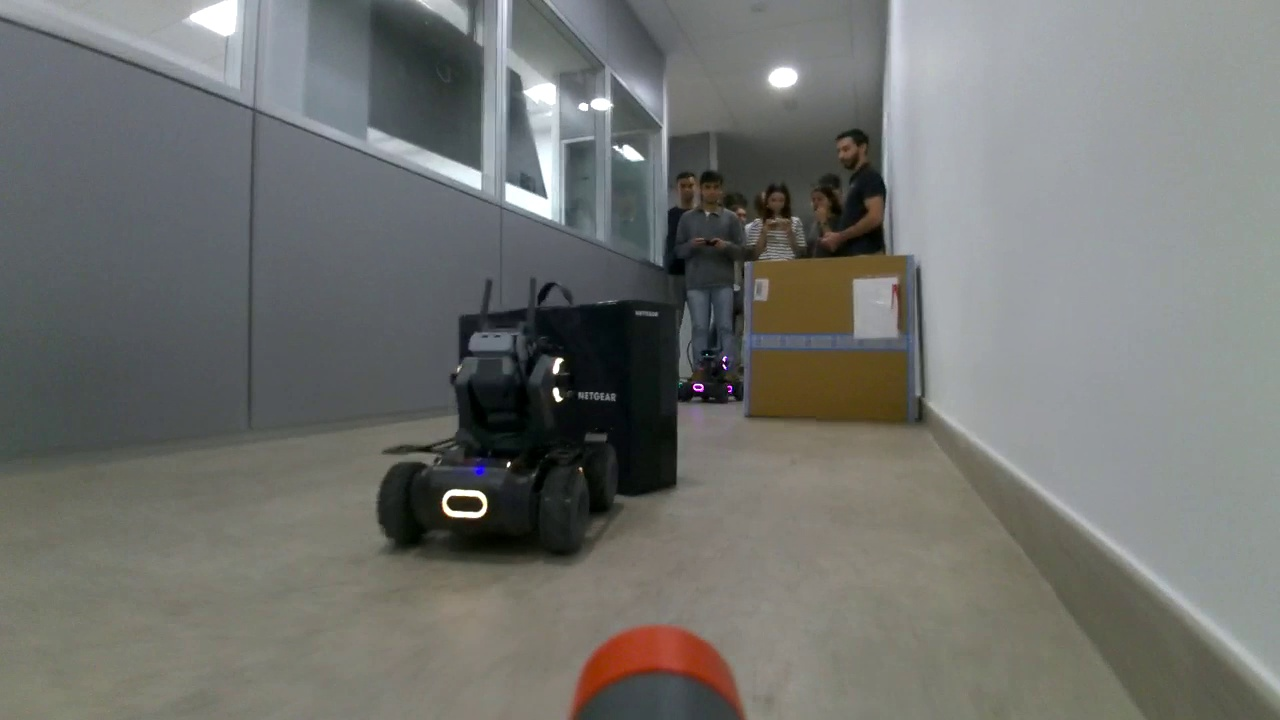robot: (375, 329, 618, 559)
